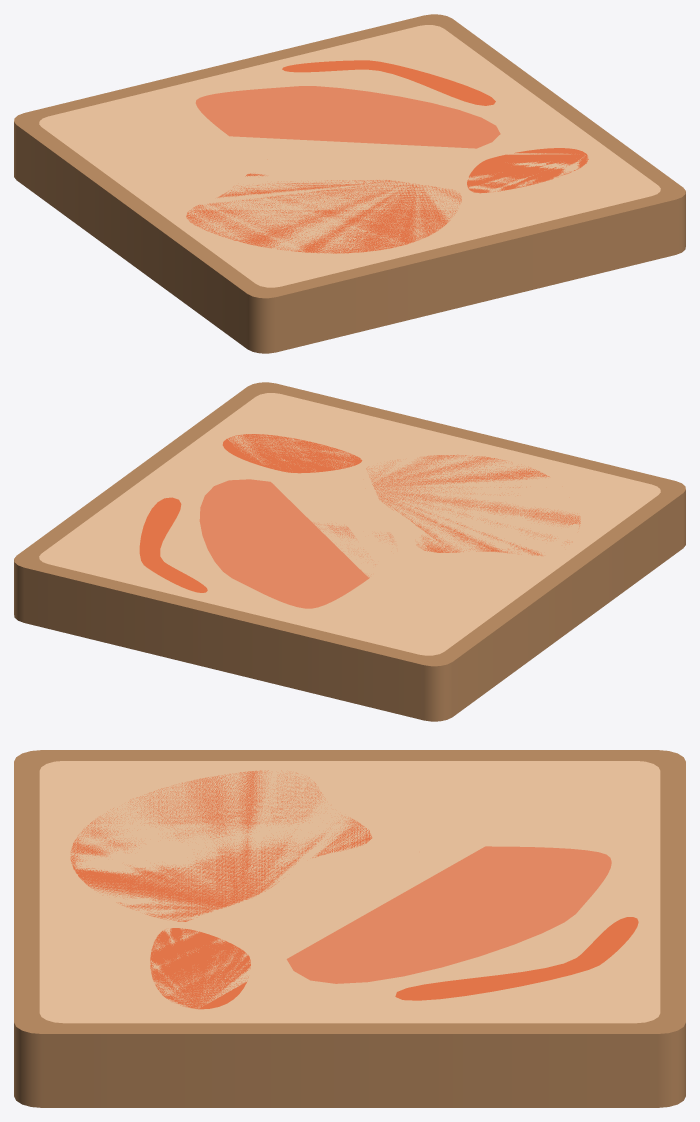
The model's file is Bread C.fbx.
3 renders of one model, top to bottom at view 1: azimuth 30°, elevation 25°; view 2: azimuth 150°, elevation 25°; view 3: azimuth 270°, elevation 25°, orthographic. The views are drawn at different scales.
Parts seen in each view (by area): view 1: Bread C; view 2: Bread C; view 3: Bread C.
Part boxes in pixels (x1,y1,x2,y2): Bread C: [14, 14, 685, 353]; Bread C: [14, 382, 685, 721]; Bread C: [14, 750, 685, 1107].
Bounding box in the file's own units: 0.6502 × 0.0789 × 0.6502.
